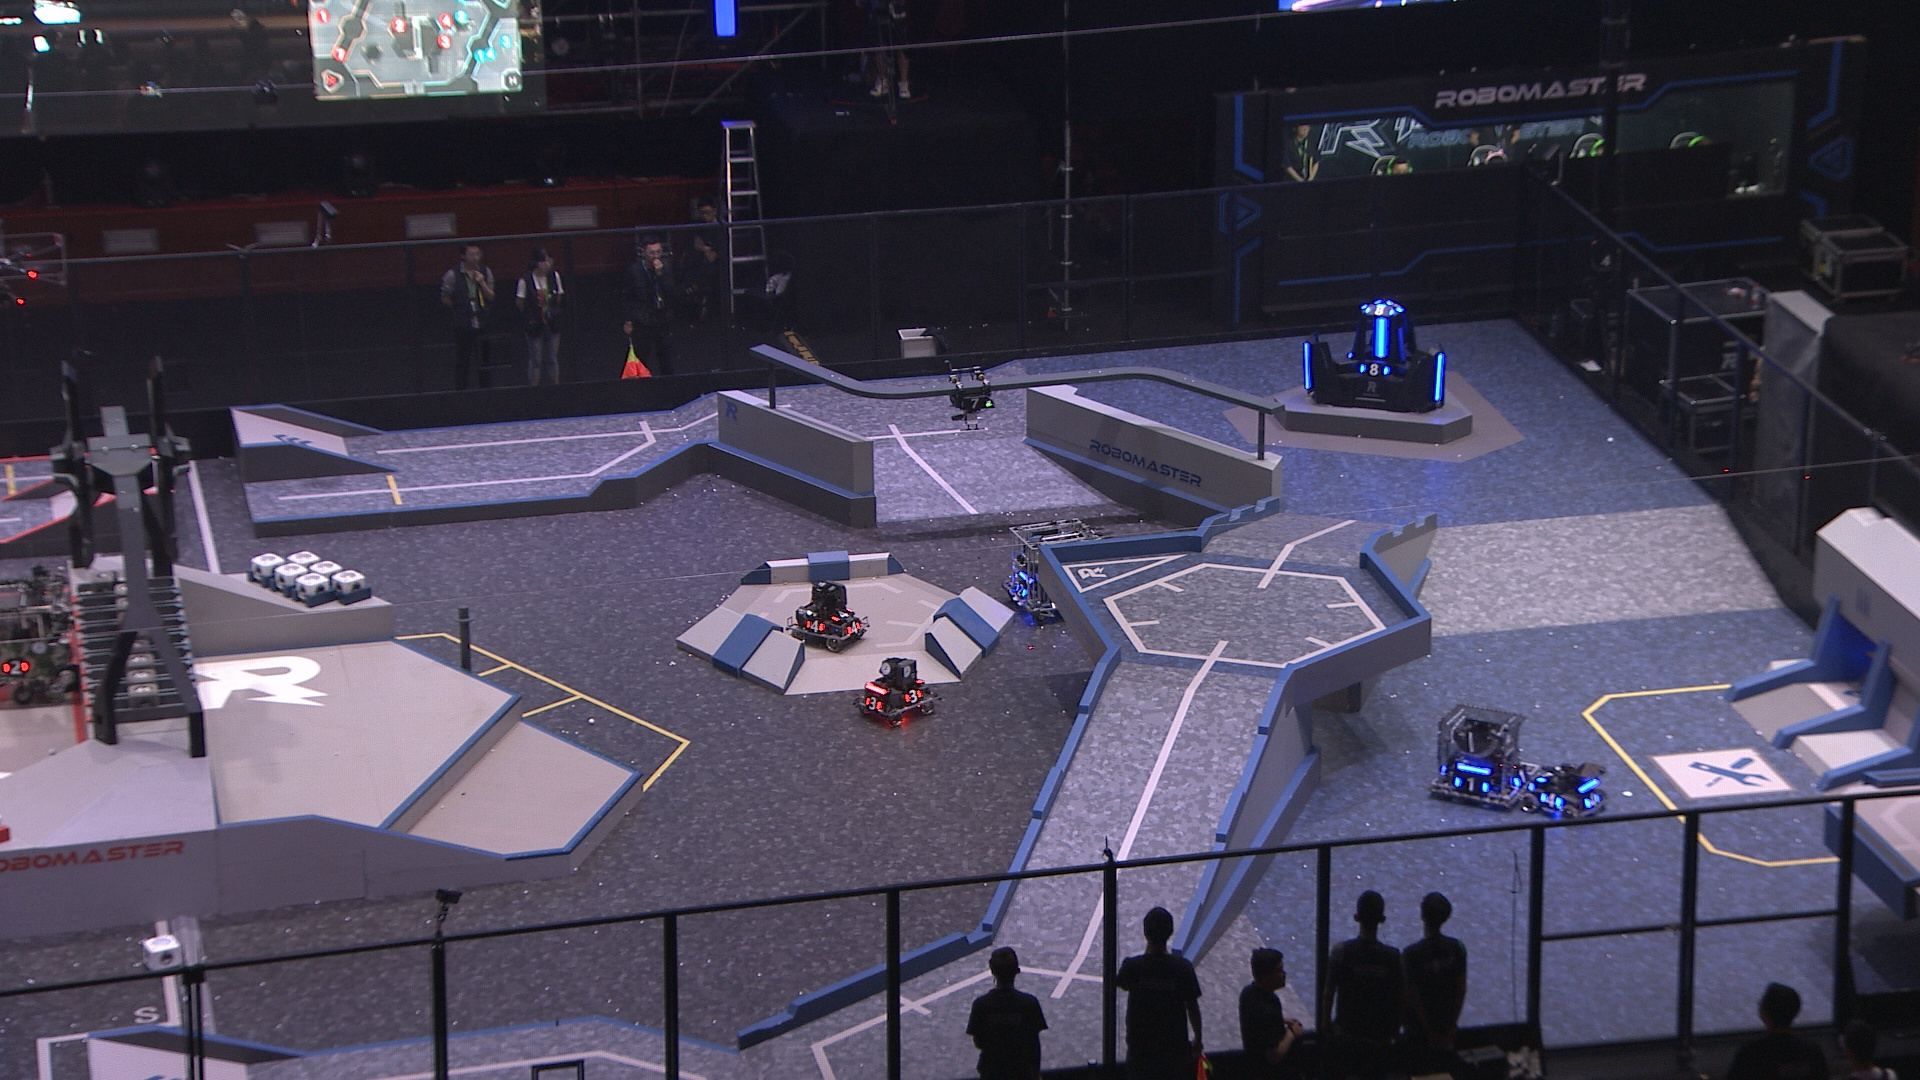armor: (1370, 316, 1391, 363), (1449, 773, 1487, 796), (1429, 351, 1447, 404), (956, 394, 993, 411), (1302, 339, 1313, 392), (0, 659, 32, 679), (1538, 789, 1567, 808), (1509, 766, 1534, 789), (1365, 301, 1396, 318), (1578, 789, 1604, 808), (1536, 765, 1563, 783), (901, 684, 923, 704), (803, 616, 825, 636), (860, 694, 884, 712), (1357, 363, 1390, 376), (1396, 327, 1408, 363), (841, 617, 861, 637), (828, 605, 851, 622), (1011, 580, 1030, 600), (1385, 299, 1404, 313)
base: (1298, 297, 1448, 411)
car: (1420, 698, 1538, 808), (998, 510, 1102, 626), (1513, 750, 1610, 825), (852, 651, 942, 731), (790, 579, 873, 651)
watcher: (942, 357, 996, 433)
